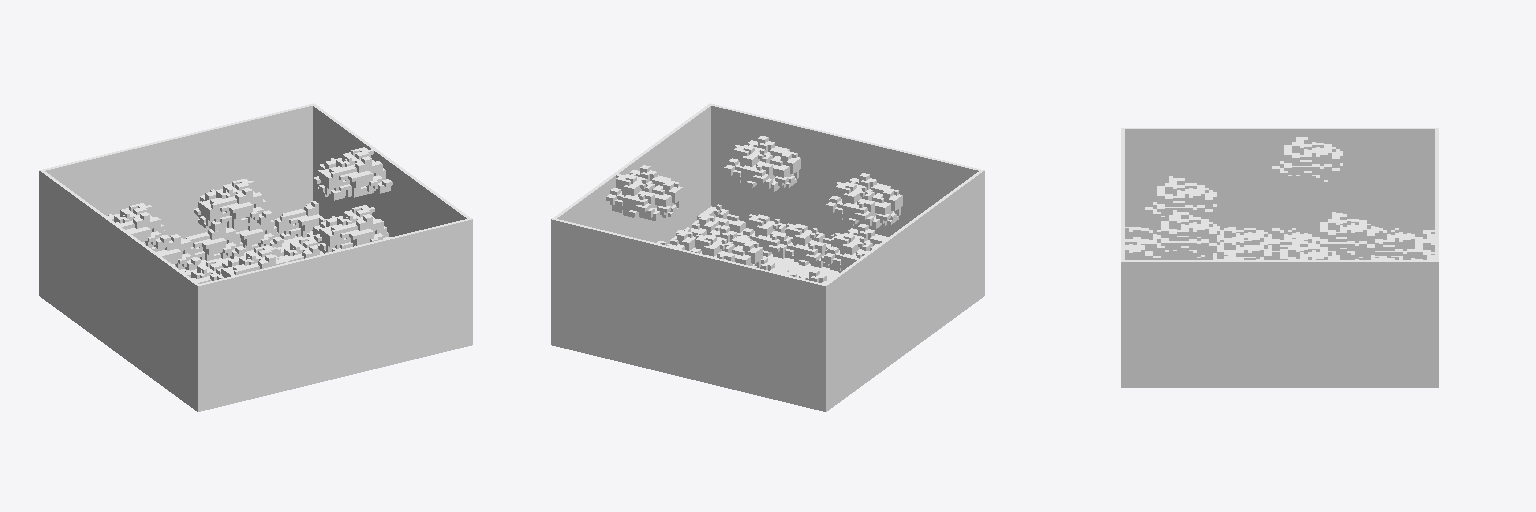
The model's file is Field1.obj.
The picture shows the model from 3 angles: view 1: azimuth 30°, elevation 25°; view 2: azimuth 150°, elevation 25°; view 3: azimuth 270°, elevation 25°; orthographic projection.
Parts seen in each view (by area): view 1: object 1; view 2: object 1; view 3: object 1.
Boxes of the visible parts, <box> form: object 1: <box>39,103,472,411</box>; object 1: <box>551,103,984,411</box>; object 1: <box>1121,128,1438,387</box>.
Bounding box in the file's own units: 8 × 3.6 × 8.